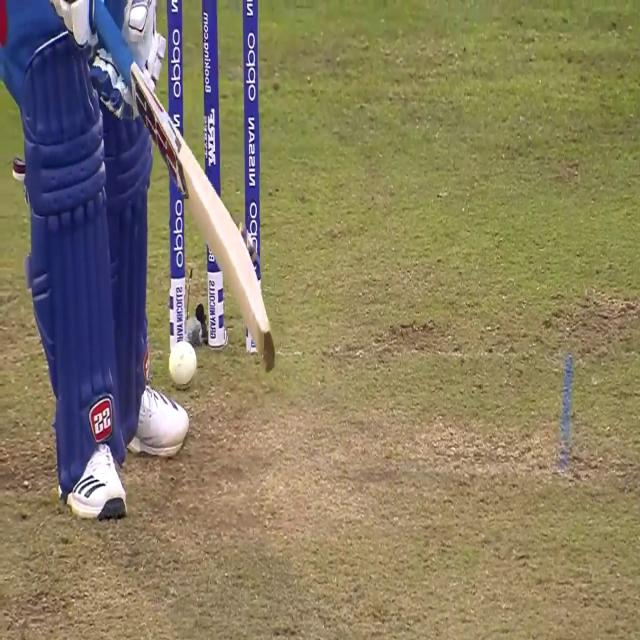ball: (170, 342, 197, 388)
